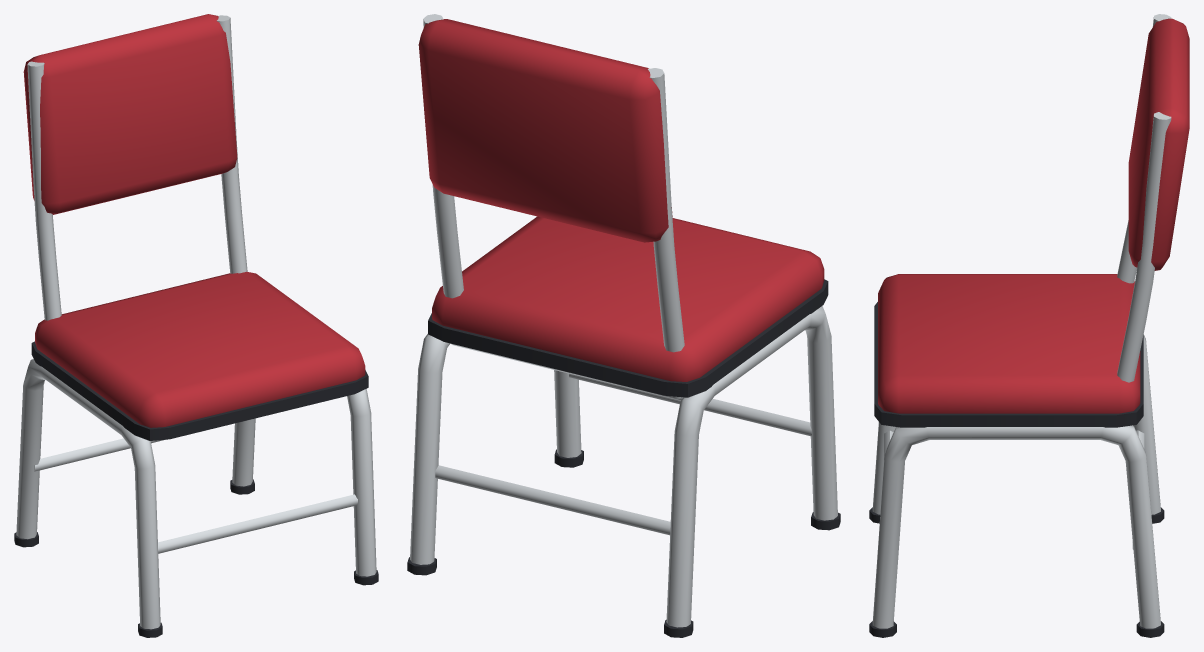
Rendered from Shop_Chair.fbx.
3 views of the same model, side by side, from view 1: azimuth 30°, elevation 25°; view 2: azimuth 150°, elevation 25°; view 3: azimuth 270°, elevation 25° (orthographic). The views are drawn at different scales.
Visible parts, largest first — view 1: Vinyl, Frame, Piping; view 2: Vinyl, Frame, Piping; view 3: Vinyl, Frame, Piping.
Boxes of the visible parts, box(x1,y1,x2,y2) form: Vinyl: box(23, 14, 365, 427); Frame: box(16, 15, 376, 629); Piping: box(14, 341, 378, 637); Vinyl: box(418, 19, 824, 381); Frame: box(410, 14, 837, 627); Piping: box(407, 279, 840, 637); Vinyl: box(878, 18, 1189, 413); Frame: box(872, 14, 1171, 628); Piping: box(869, 302, 1164, 637).
Bounding box in the file's own units: 172 × 327 × 186.
